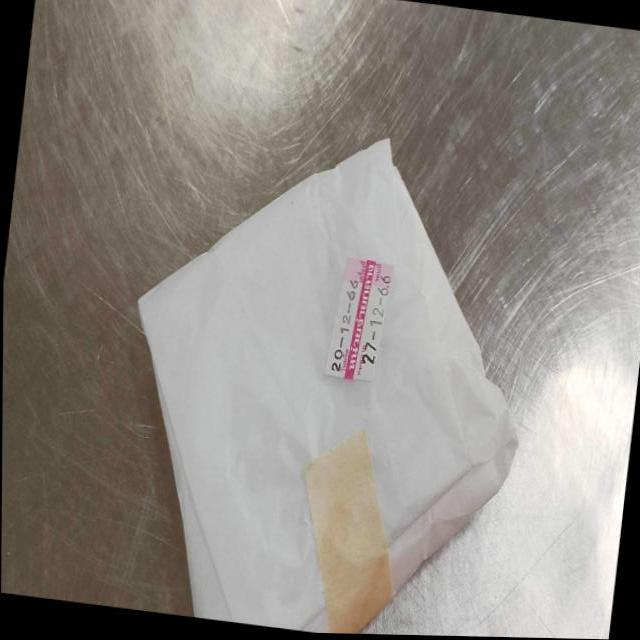General: (135, 137, 520, 635)
Sharps: (322, 257, 396, 384)
